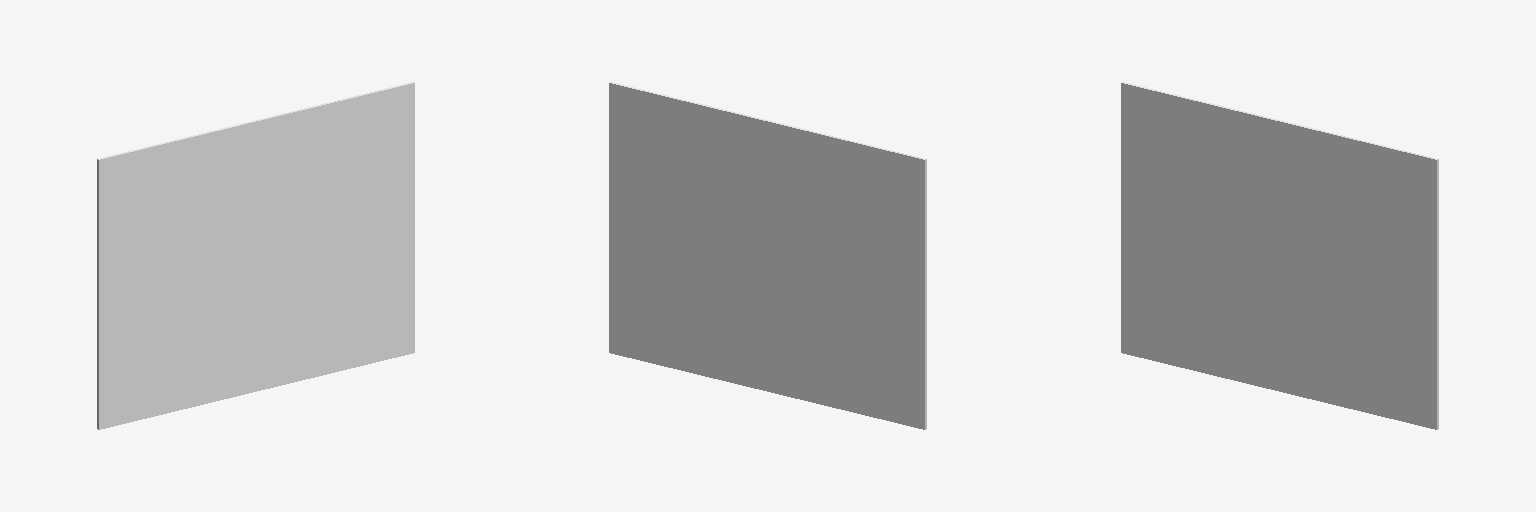
File: Pictures.obj
3 renders of one model, left to right at view 1: azimuth 30°, elevation 25°; view 2: azimuth 150°, elevation 25°; view 3: azimuth 330°, elevation 25°, orthographic.
Parts seen in each view (by area): view 1: object 1; view 2: object 1; view 3: object 1.
Boxes of the visible parts, x1=… form: object 1: x1=97, y1=82, x2=414, y2=429; object 1: x1=609, y1=82, x2=926, y2=429; object 1: x1=1121, y1=82, x2=1438, y2=429.
Size of the model in its own units: 12.6 by 10.3 by 0.1.